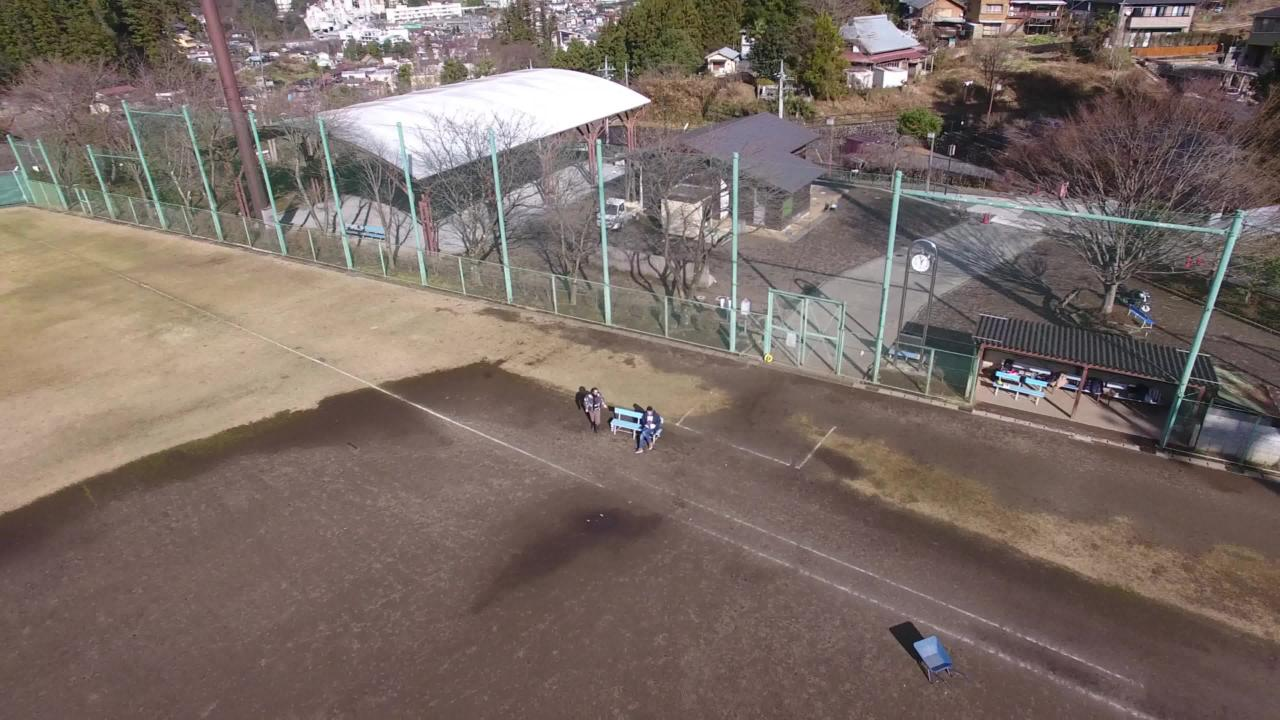bench: (997, 378, 1041, 400)
car: (587, 193, 649, 240)
person: (632, 401, 664, 461), (578, 386, 606, 441)
trolley: (904, 631, 961, 688)
